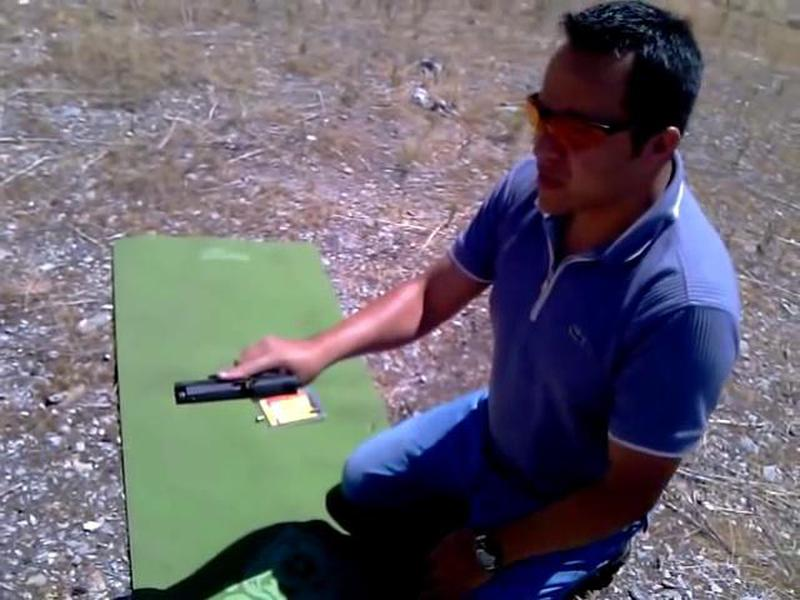Pistola: (147, 337, 322, 426)
